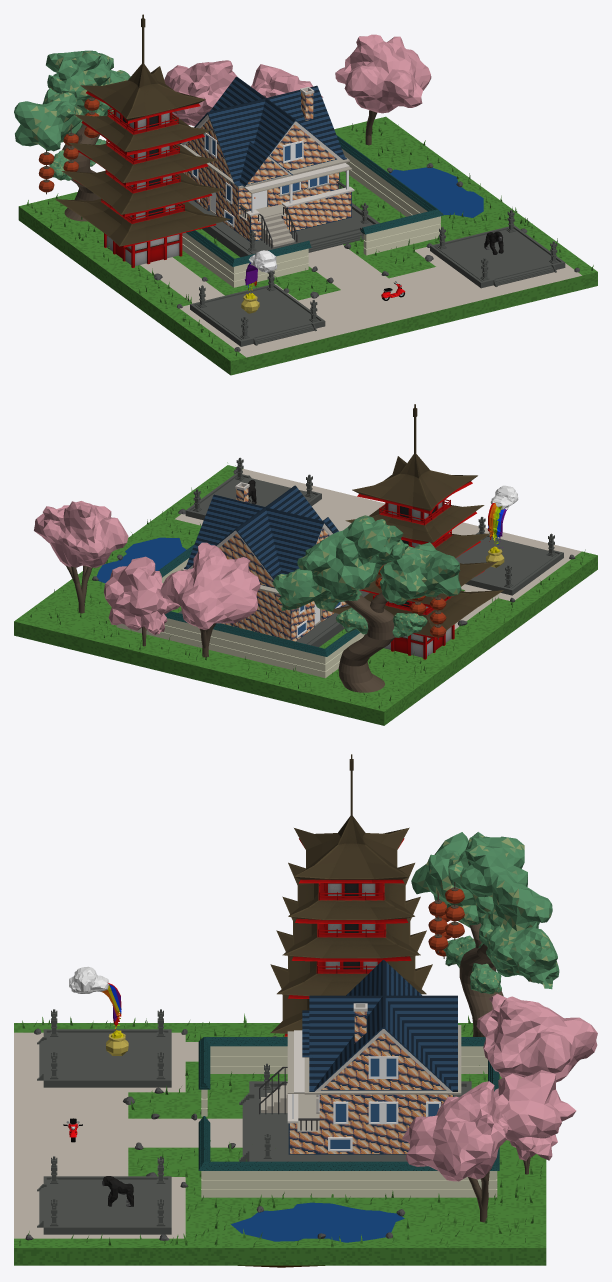
3 views of the same model, one above another, from view 1: azimuth 30°, elevation 25°; view 2: azimuth 150°, elevation 25°; view 3: azimuth 270°, elevation 25° (orthographic). The views are drawn at different scales.
Visible parts, largest first — view 1: Cube.005, Cube.430, OBJRANDOM_RAINBOW; view 2: Cube.005, Cube.430, OBJRANDOM_RAINBOW; view 3: Cube.005, Cube.430, OBJRANDOM_RAINBOW.
Part boxes in pixels (box(x1,y1,x2,y2)): Cube.005: box(14, 14, 597, 375); Cube.430: box(179, 76, 354, 248); OBJRANDOM_RAINBOW: box(241, 250, 277, 313); Cube.005: box(14, 404, 597, 725); Cube.430: box(181, 482, 346, 641); OBJRANDOM_RAINBOW: box(486, 485, 518, 567); Cube.005: box(14, 754, 597, 1265); Cube.430: box(259, 960, 461, 1154); OBJRANDOM_RAINBOW: box(69, 966, 128, 1055).
Bounding box in the file's own units: 4528 × 2756 × 4389.
46 materials, 6 textured.
